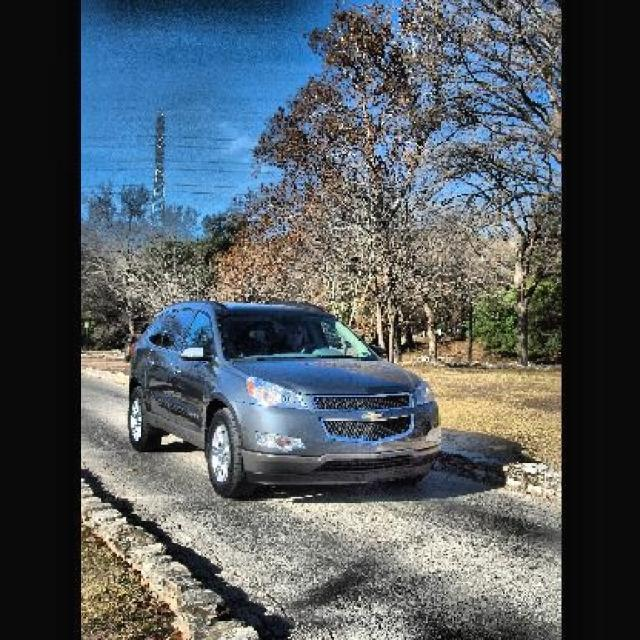black: (134, 285, 446, 498)
